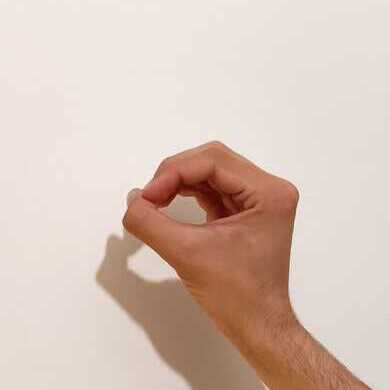O: (121, 139, 301, 327)
